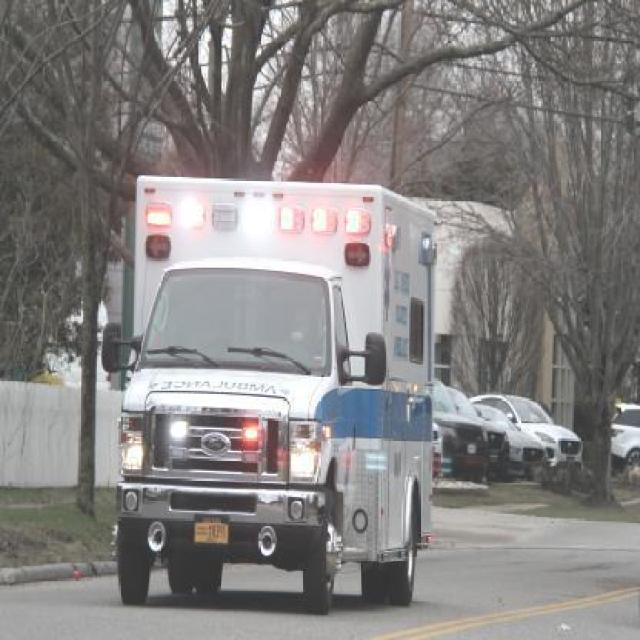emergency: (100, 173, 440, 614)
